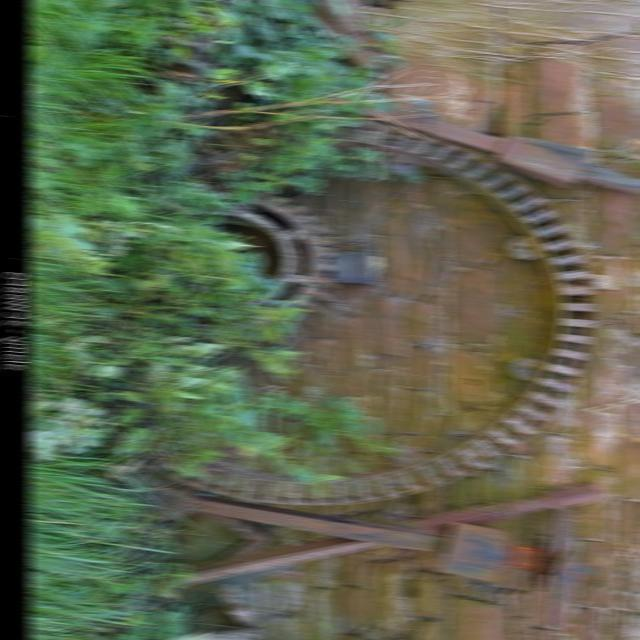Gear: (154, 186, 339, 336)
